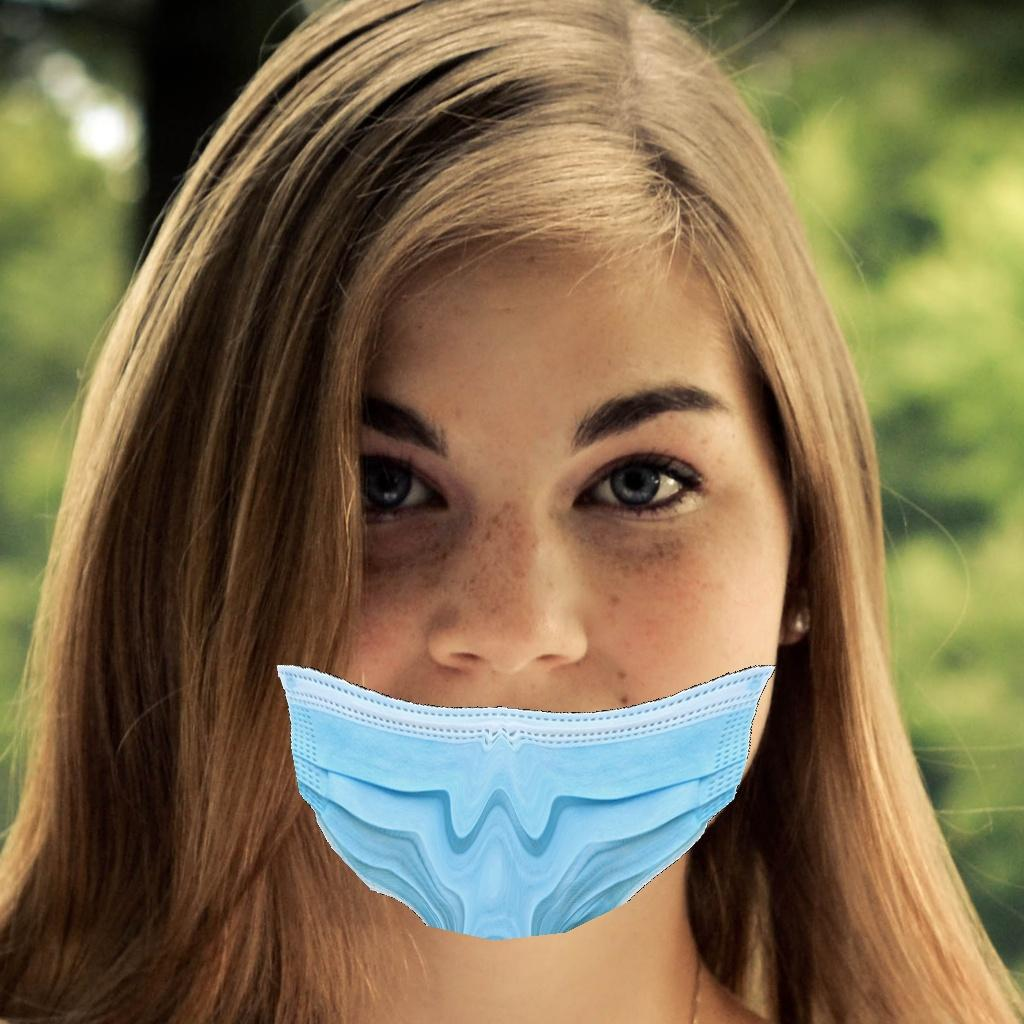Máscara Incorreta: (252, 280, 805, 931)
